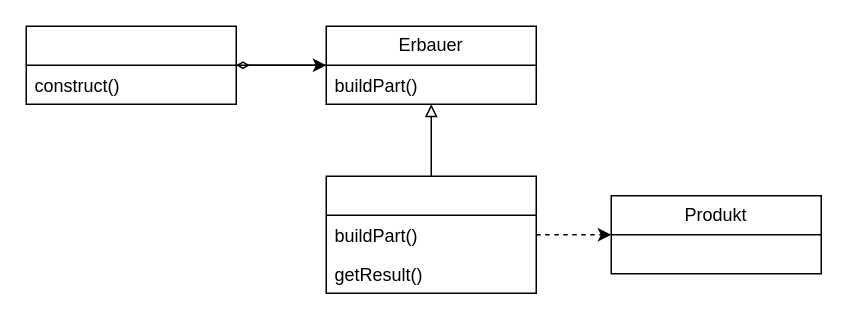
The diagram is 848 pixels wide and 324 high, and some of its shapes have lost their labels. Each missing label, with the box of its shape:
Direktor: (25, 25, 236, 104)
KonkreterErbauer: (325, 175, 536, 293)
